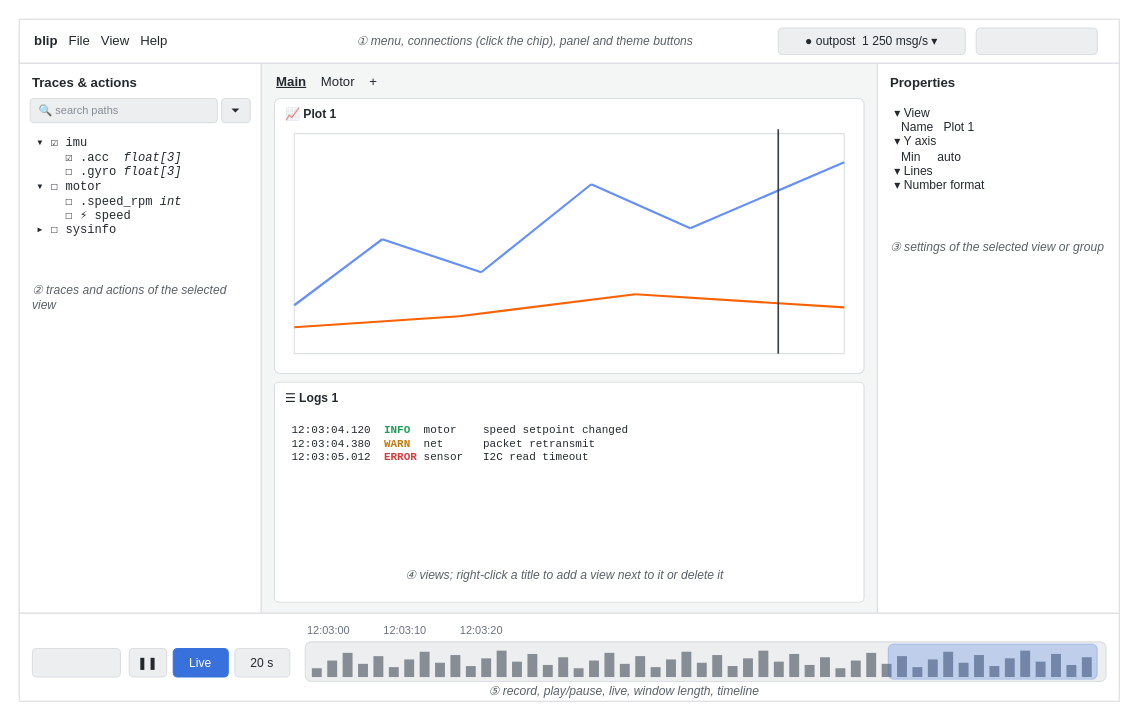
Image size: 1139x721. Some labels were removed from this diagram. Here are the shapes that lost their labels. From the top down, the centre of each, then its label:
[1036,40]: panels · theme
[568,243]: time cursor
[75,662]: ● Record
